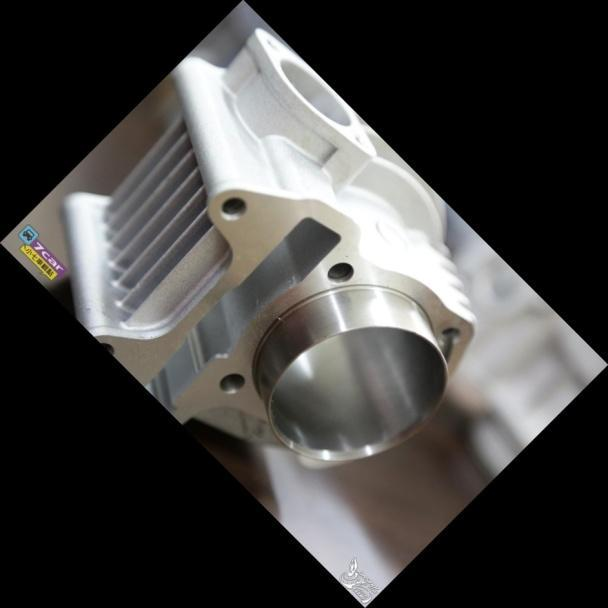hole: (212, 189, 252, 229), (320, 253, 359, 293), (211, 364, 250, 403)
